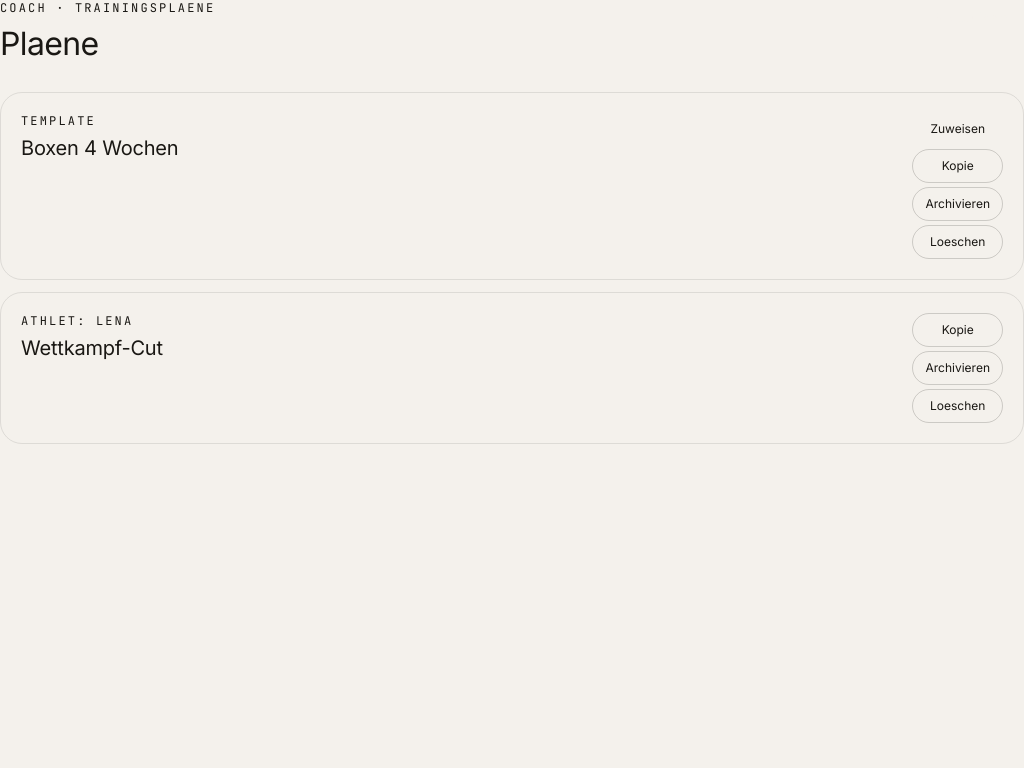
Scenario: PlansPage › Zuweisen-Button nur bei aktiven Templates sichtbar, oeffnet AssignPlanModal
# Modal oeffnet
Step 1. Click the button with aria-label "Plan Boxen 4 Wochen zuweisen" → [958, 129], box [912, 113, 1003, 145]
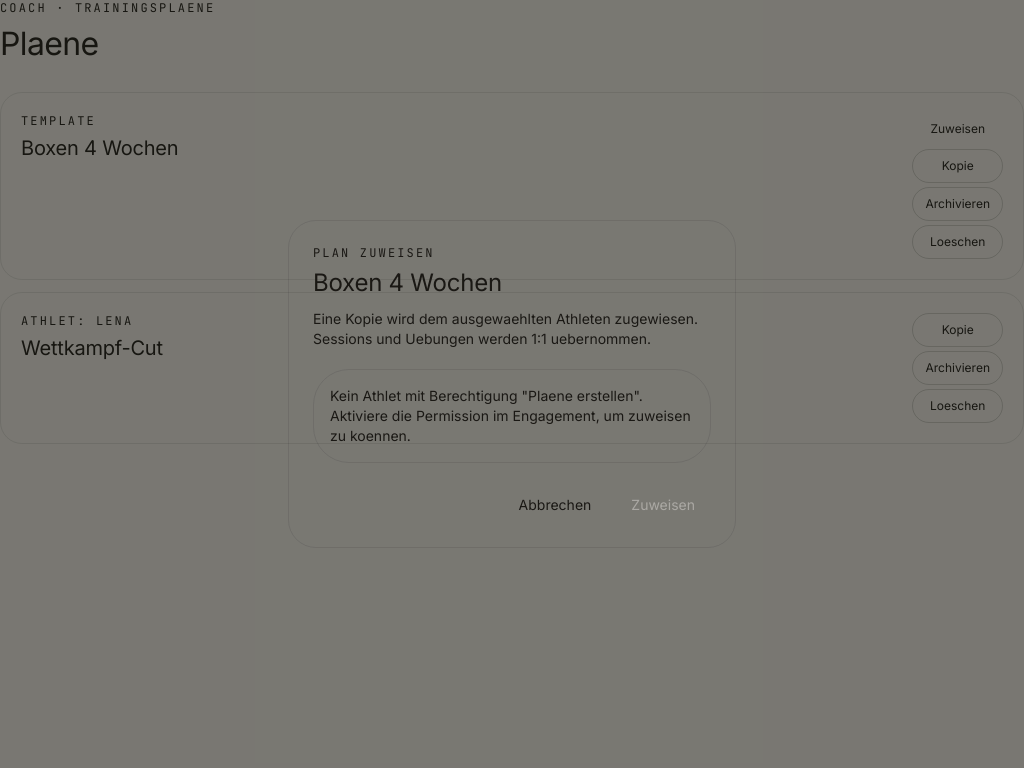
Expected: the dialog is shown
